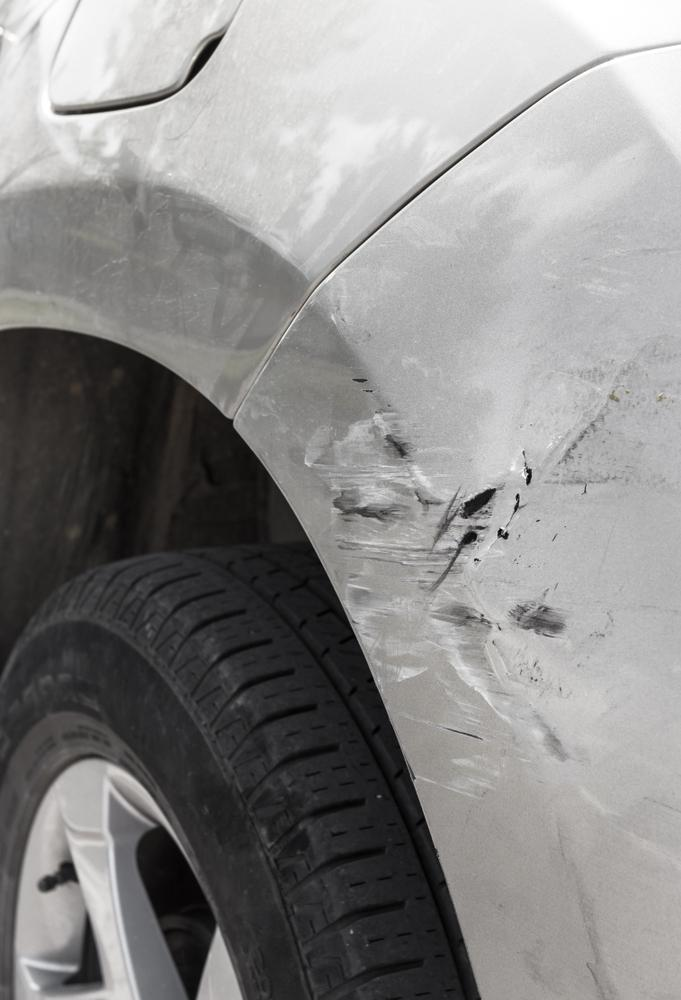scratch: (287, 341, 681, 800)
